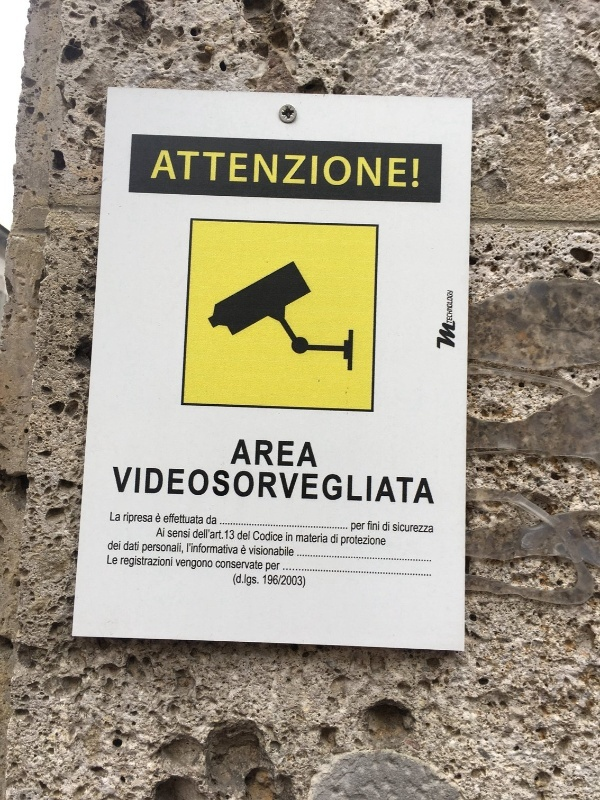text: (113, 462, 128, 509), (129, 462, 144, 509), (145, 462, 160, 509), (161, 462, 176, 509), (177, 462, 192, 509), (193, 462, 208, 509), (209, 462, 224, 509), (225, 462, 240, 509), (241, 462, 256, 509), (257, 462, 272, 509), (273, 462, 288, 509), (289, 462, 304, 509), (305, 462, 320, 509), (321, 462, 336, 509), (337, 462, 352, 509), (353, 462, 368, 509), (369, 462, 384, 509), (385, 462, 400, 509), (401, 462, 416, 509), (417, 462, 432, 509), (161, 149, 176, 191), (177, 149, 192, 191), (193, 149, 208, 191), (209, 149, 224, 191), (225, 149, 240, 191), (241, 149, 256, 191), (257, 149, 272, 191), (273, 149, 288, 191), (289, 149, 304, 191), (305, 149, 320, 191), (321, 149, 336, 191), (337, 149, 352, 191), (353, 149, 368, 191), (369, 149, 384, 191), (385, 149, 400, 191), (401, 149, 416, 191), (241, 439, 256, 469), (257, 439, 272, 469), (273, 439, 288, 469), (289, 439, 304, 469), (305, 439, 319, 469), (438, 320, 448, 350), (241, 573, 256, 587), (273, 574, 288, 588), (289, 574, 304, 588), (225, 520, 240, 533), (241, 520, 256, 533), (257, 520, 272, 533), (273, 520, 288, 533), (289, 520, 304, 533), (305, 520, 320, 533), (321, 520, 336, 533), (353, 534, 368, 547), (369, 534, 384, 547), (417, 553, 433, 565), (417, 567, 433, 579), (433, 462, 437, 509), (449, 320, 455, 350), (129, 512, 144, 524), (129, 556, 144, 568), (145, 556, 160, 568), (177, 513, 192, 525), (177, 559, 192, 571), (193, 559, 208, 571), (193, 543, 208, 555), (209, 543, 224, 555), (241, 544, 256, 556), (257, 545, 272, 557), (273, 545, 288, 557), (257, 530, 272, 542), (305, 553, 320, 565), (321, 553, 336, 565), (337, 553, 352, 565), (353, 553, 368, 565), (369, 553, 384, 565), (385, 553, 400, 565), (401, 553, 416, 565), (289, 567, 304, 579), (305, 567, 320, 579), (321, 567, 336, 579), (337, 567, 352, 579), (353, 567, 368, 579), (369, 567, 384, 579), (385, 567, 400, 579), (401, 567, 416, 579), (417, 522, 433, 533), (145, 543, 160, 554), (161, 543, 176, 554), (193, 529, 208, 540), (305, 533, 320, 544), (401, 522, 416, 533), (225, 543, 238, 555), (337, 520, 349, 533), (225, 560, 240, 570), (241, 560, 256, 570), (225, 530, 240, 540), (449, 289, 453, 325), (161, 556, 173, 568), (353, 522, 366, 533), (369, 520, 380, 533), (341, 534, 352, 547), (210, 530, 224, 540), (262, 574, 272, 588), (165, 513, 176, 525), (193, 513, 204, 525), (177, 529, 190, 539), (417, 149, 420, 191), (273, 530, 283, 542), (129, 541, 140, 551), (241, 530, 250, 541), (233, 573, 240, 587), (145, 512, 153, 524), (209, 514, 217, 526), (248, 545, 256, 557), (296, 533, 304, 544), (121, 556, 128, 568), (113, 512, 121, 522), (113, 541, 121, 551), (168, 529, 176, 539), (216, 560, 224, 570), (177, 543, 184, 554), (393, 522, 400, 533), (298, 553, 304, 565), (273, 562, 280, 572), (321, 533, 327, 544), (257, 560, 263, 570), (289, 545, 294, 557), (266, 562, 272, 572), (220, 520, 224, 533), (113, 555, 118, 565), (187, 543, 192, 553), (331, 534, 336, 544), (385, 521, 390, 531), (124, 512, 128, 524), (209, 559, 213, 571), (284, 567, 288, 579), (111, 462, 112, 509), (161, 527, 165, 538), (156, 513, 160, 524), (108, 541, 112, 551), (124, 541, 128, 551), (108, 555, 112, 565), (289, 532, 293, 542), (447, 289, 448, 325), (253, 530, 256, 542), (239, 439, 240, 469), (257, 573, 259, 587), (238, 530, 240, 541), (286, 532, 288, 542), (305, 574, 306, 588), (367, 520, 368, 533), (385, 534, 386, 547), (207, 514, 208, 526), (143, 543, 144, 554), (159, 527, 160, 538), (209, 529, 210, 540), (351, 522, 352, 533), (111, 512, 112, 522), (337, 534, 338, 544), (383, 521, 384, 531)
